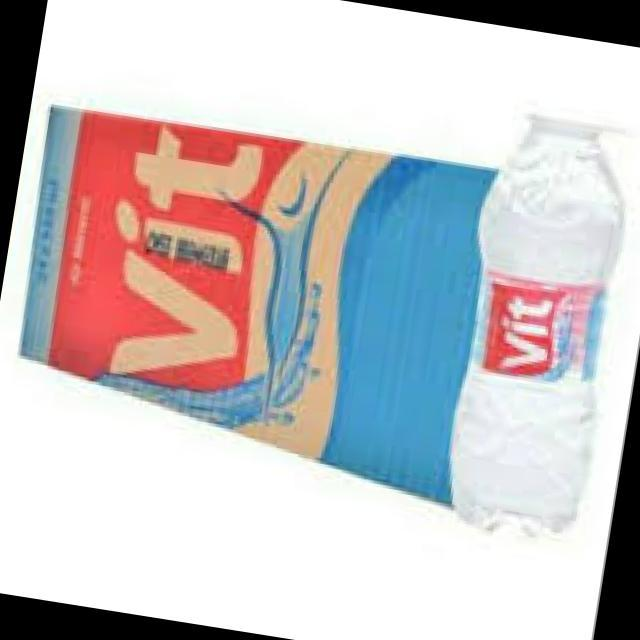good: (415, 53, 640, 559)
